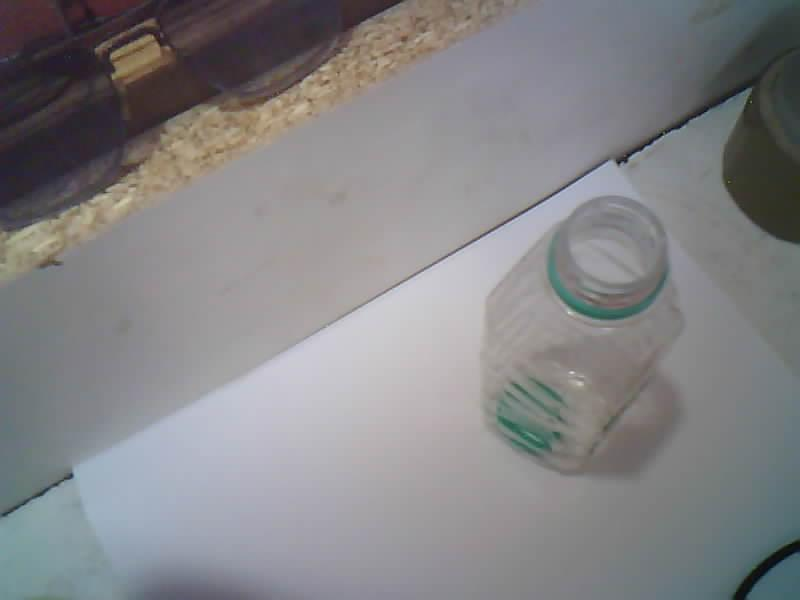non-biodegradable: (481, 195, 683, 472)
